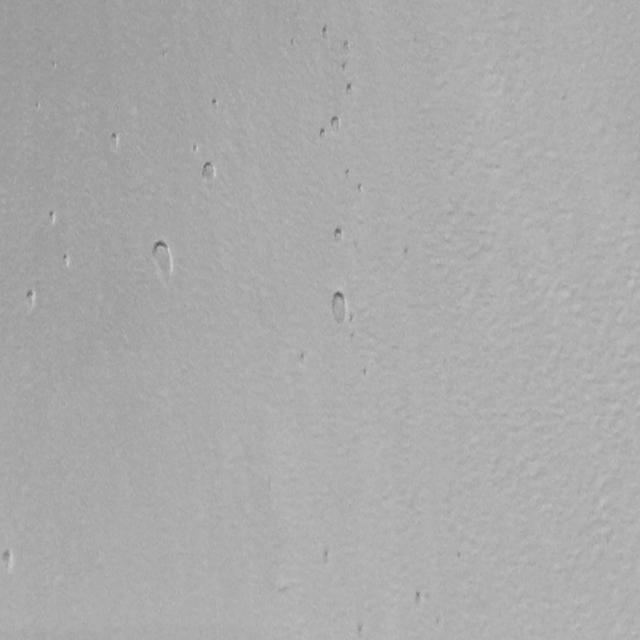pin holes: (148, 238, 177, 282), (327, 288, 351, 326), (198, 160, 219, 188), (1, 547, 19, 574), (316, 546, 336, 569), (22, 286, 40, 311), (295, 349, 311, 372), (331, 226, 347, 246), (109, 130, 124, 150), (46, 209, 60, 230), (411, 590, 427, 608), (354, 621, 370, 639), (59, 252, 72, 272), (329, 115, 344, 132), (318, 24, 331, 42), (401, 242, 411, 264), (344, 82, 356, 99), (316, 127, 328, 143), (341, 40, 353, 56), (208, 96, 220, 111), (356, 184, 368, 198), (340, 60, 352, 74), (191, 141, 202, 154), (343, 166, 353, 180)
